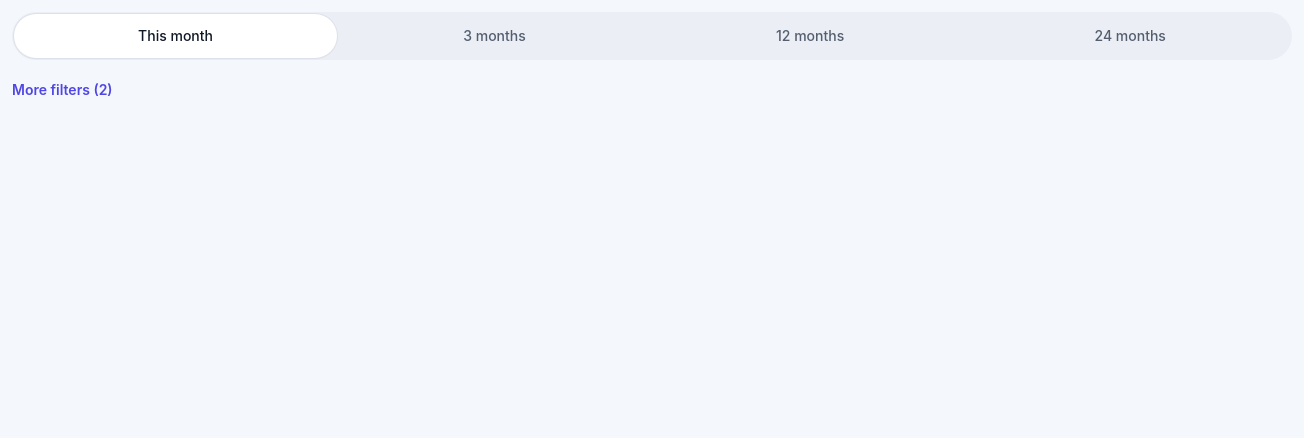
ReportFilters › under 1024 px the filters sit behind one control naming the active count (AC-50)
Expected: the field labelled "Account" is not shown
Step 1. Click the button "More filters (2)" → (62, 90), box [12,68,113,112]
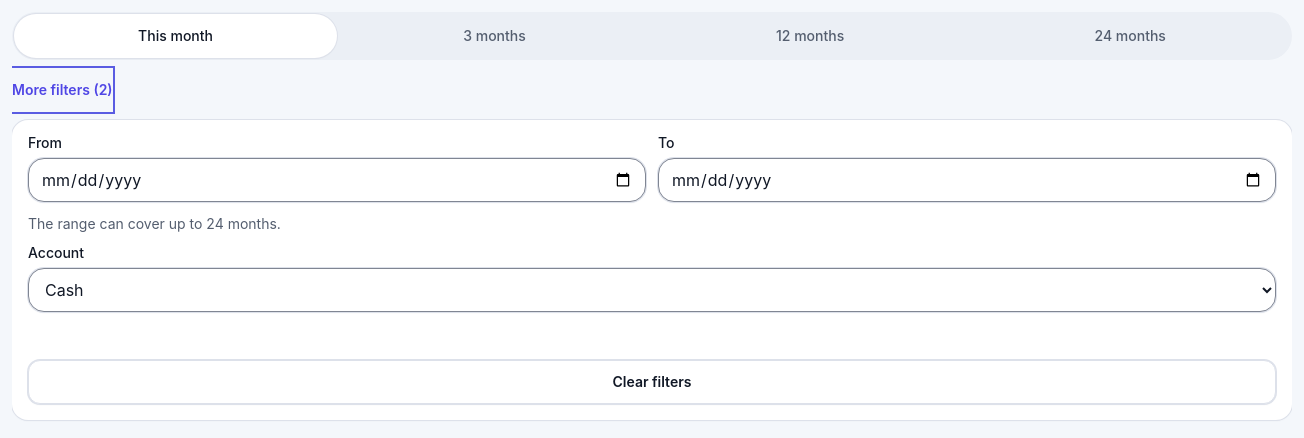
Result: the dropdown labelled "Account" is shown at [28,268,1276,312]
